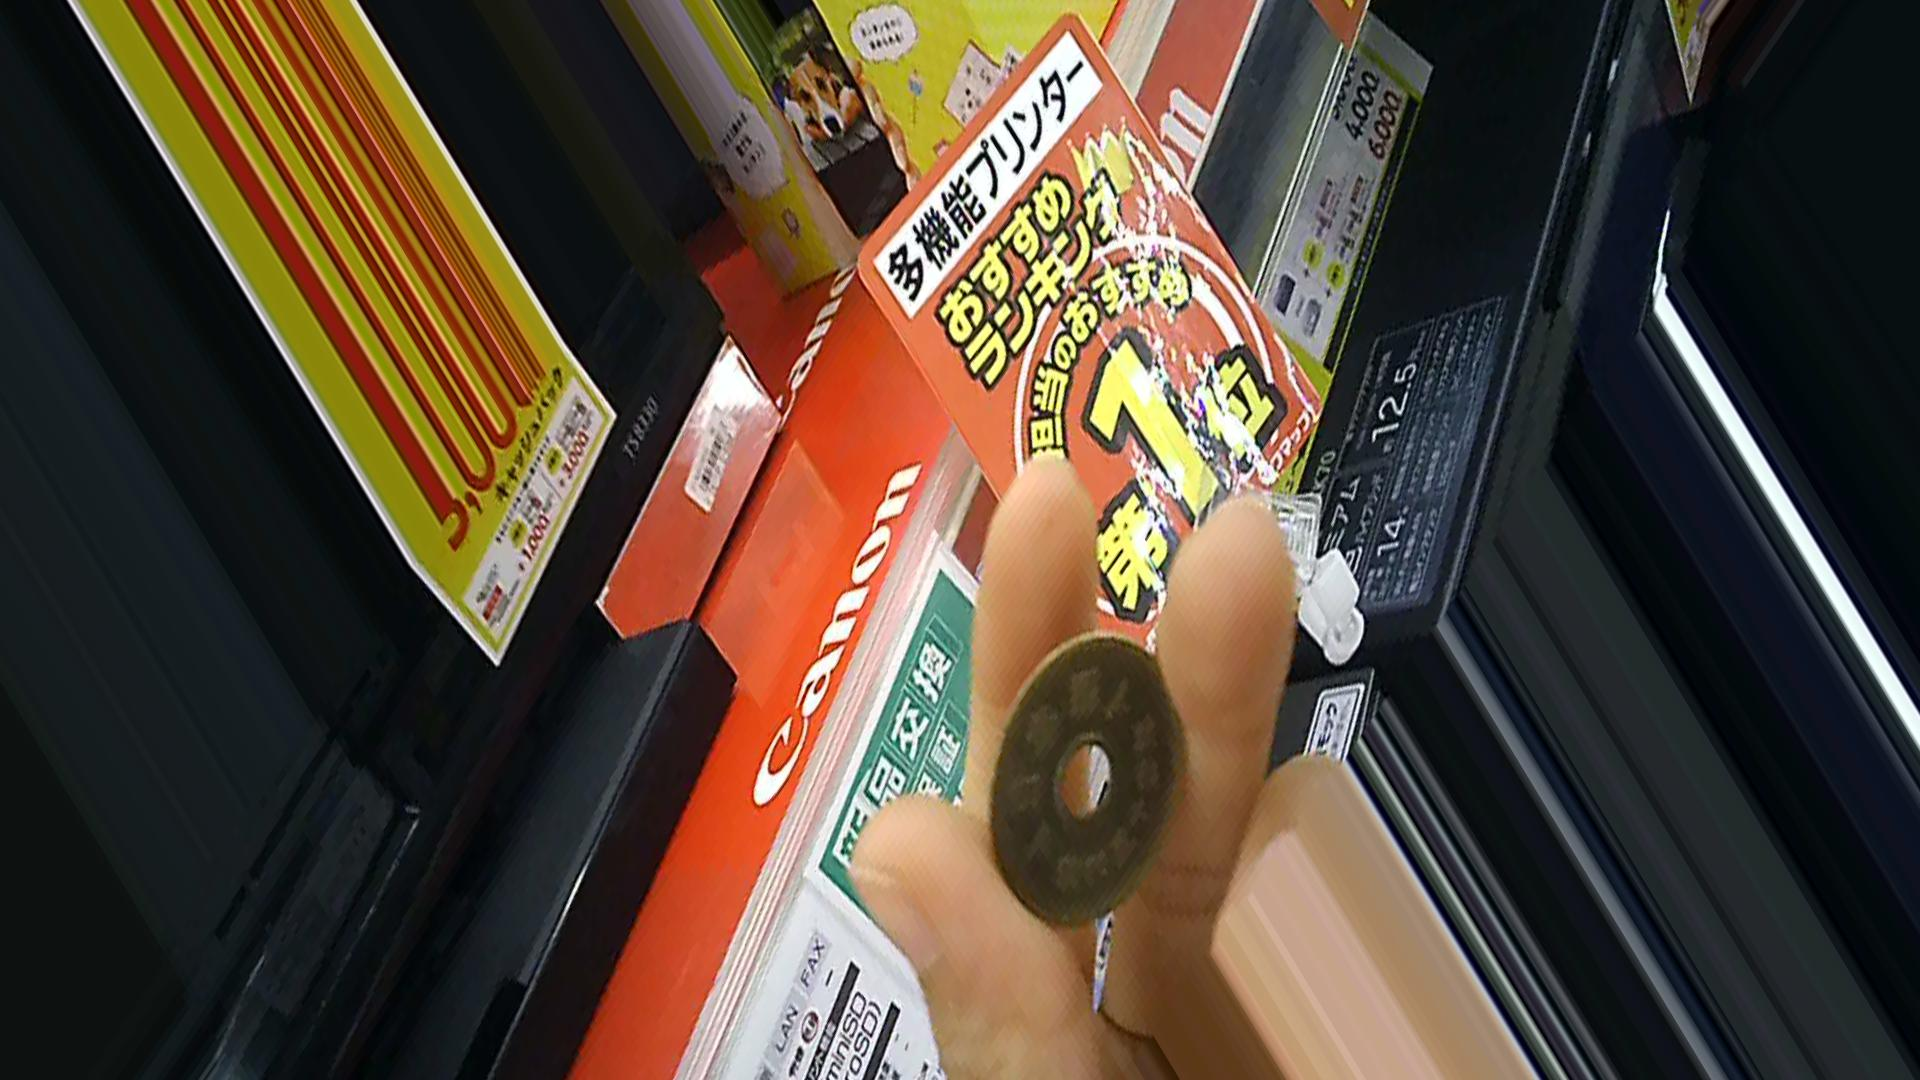5 Yen: (971, 642, 1179, 956)
